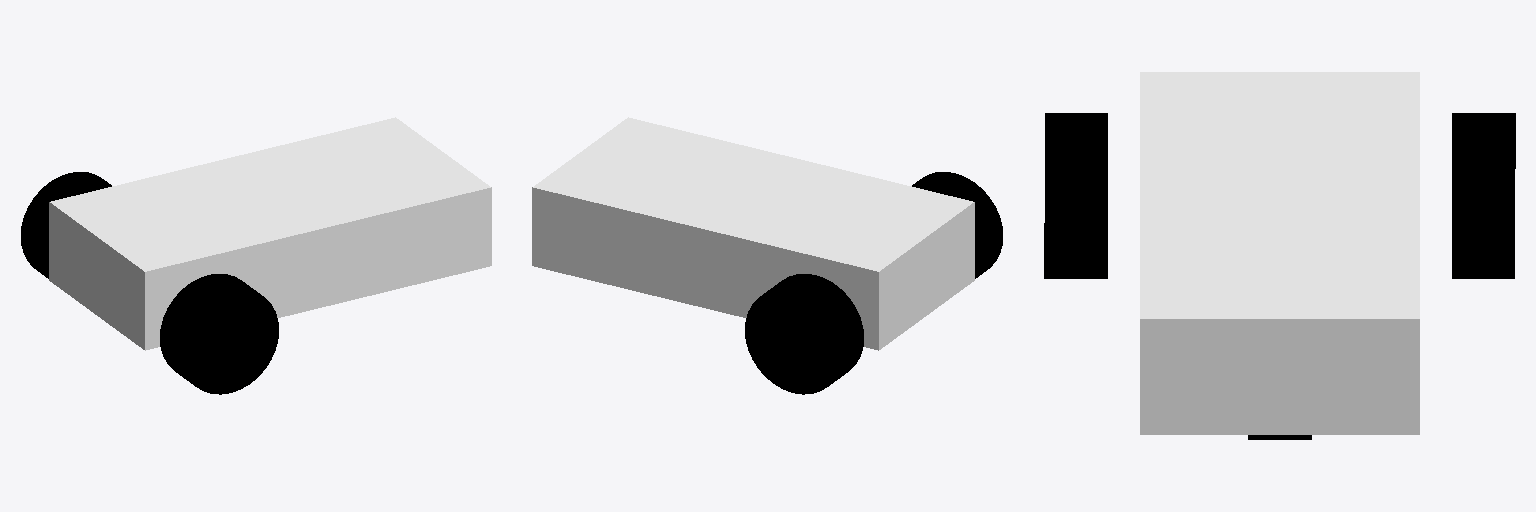
robot.urdf — hg_robot:
<?xml version="1.0" ?>
<robot name="hg_robot">

   <link name="base_link">
        <visual>
            <origin xyz=" 0.08 0 0.045" rpy="0 0 0" />
            <geometry>
                <box size="0.23 0.11 0.05"/>
            </geometry>
            <material name="white">
                <color rgba="215 255 1 1"/>
            </material>
        </visual>
    </link>   

    <joint name="left_wheel_joint" type="continuous">
        <origin xyz="0 0.08 0.0325" rpy="1.57 0 0"/>
        <parent link="base_link"/>
        <child link="left_wheel_link"/>
        <axis xyz="0 1 0"/>
    </joint>

    <link name="left_wheel_link">
        <visual>
            <origin xyz="0 0 0" rpy="0 0 0" />
            <geometry>
                <cylinder radius="0.0325" length = "0.025"/>
            </geometry>
            <material name="black">
                <color rgba="0 0 0 1"/>
            </material>
        </visual>
    </link>

    <joint name="right_wheel_joint" type="continuous">
        <origin xyz="0 -0.08 0.0325" rpy="1.57 0 0"/>
        <parent link="base_link"/>
        <child link="right_wheel_link"/>
        <axis xyz="0 1 0"/>
    </joint>

    <link name="right_wheel_link">
        <visual>
            <origin xyz="0 0 0" rpy="0 0 0" />
            <geometry>
                <cylinder radius="0.0325" length = "0.025"/>
            </geometry>
            <material name="black">
                <color rgba="0 0 0 1"/>
            </material>
        </visual>
    </link>

    <joint name="front_wheel_joint" type="continuous">
        <origin xyz="0.15 0 0.0325" rpy="1.57 0 0"/>
        <parent link="base_link"/>
        <child link="front_wheel_link"/>
        <axis xyz="0 1 0"/>
    </joint>

    <link name="front_wheel_link">
        <visual>
            <origin xyz="0 0 0" rpy="0 0 0" />
            <geometry>
                <cylinder radius="0.0325" length = "0.025"/>
            </geometry>
            <material name="black">
                <color rgba="0 0 0 1"/>
            </material>
        </visual>
    </link>


</robot>

--- Render facts (derived) ---
Views: 3 orthographic renders of the robot side by side, from view 1: azimuth 30°, elevation 25°; view 2: azimuth 150°, elevation 25°; view 3: azimuth 270°, elevation 25°.
Robot: hg_robot — 4 links, 3 joints (3 continuous); root link base_link; default pose: every joint at zero.
Links seen in each view (by area): view 1: base_link, right_wheel_link, left_wheel_link; view 2: base_link, left_wheel_link, right_wheel_link; view 3: base_link, left_wheel_link, right_wheel_link.
Link boxes in pixels (x1,y1,x2,y2): base_link: [49, 117, 491, 350]; right_wheel_link: [160, 274, 278, 394]; left_wheel_link: [21, 172, 111, 278]; base_link: [532, 117, 974, 350]; left_wheel_link: [745, 274, 863, 394]; right_wheel_link: [912, 172, 1002, 278]; base_link: [1140, 72, 1419, 434]; left_wheel_link: [1452, 113, 1515, 278]; right_wheel_link: [1044, 113, 1107, 278].
Size in the robot's own frame: 0.23 by 0.1851 by 0.07 metres.
Geometry: primitives only (box / cylinder / sphere), no mesh files.